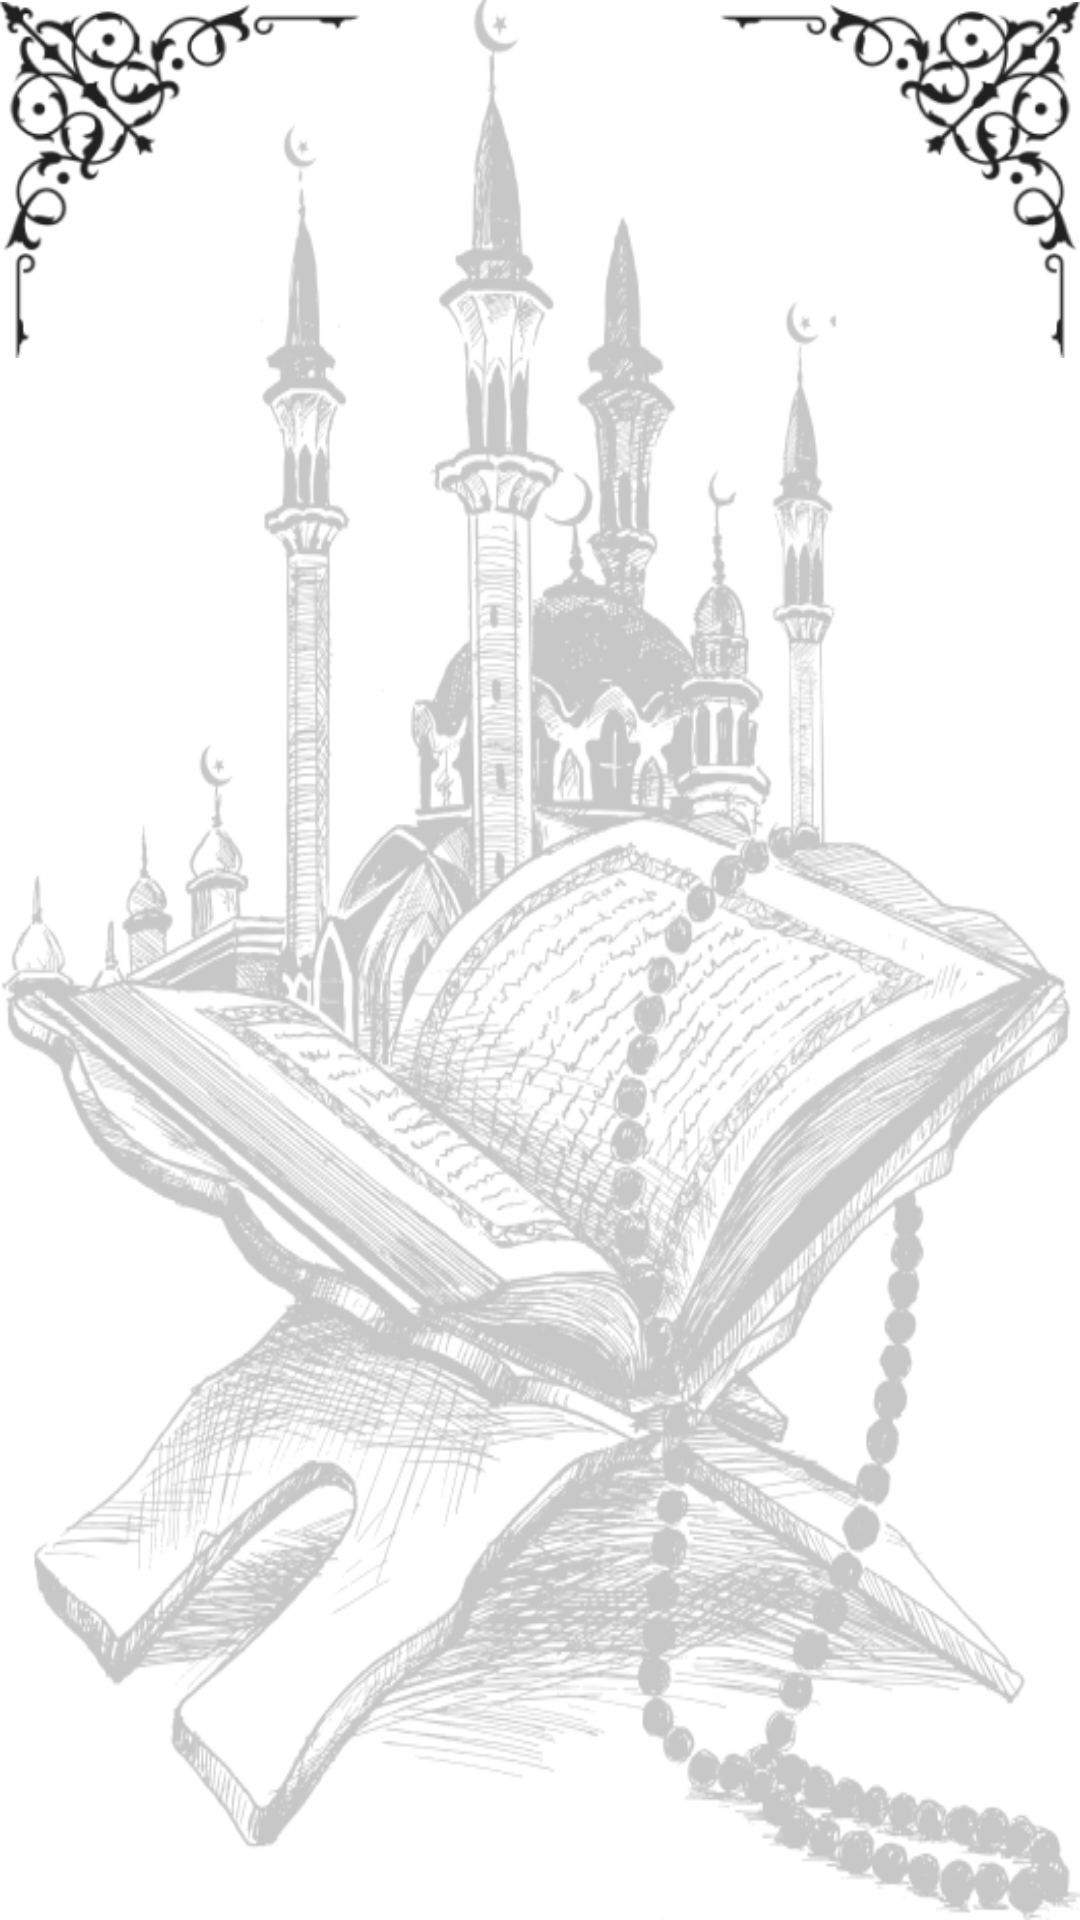

Named icons in this screenshot (1080×1920) and their centers, (x=x, y=y):
left corner: (x=179, y=180)
right corner: (x=900, y=180)
